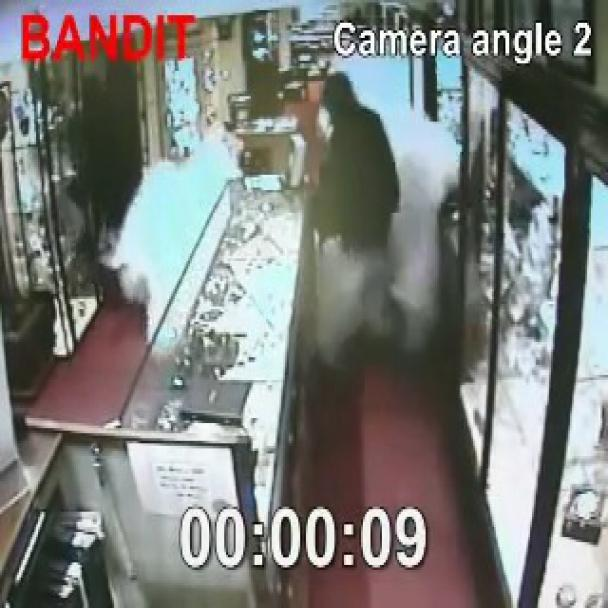smoke: (295, 54, 464, 372), (107, 101, 239, 349)
